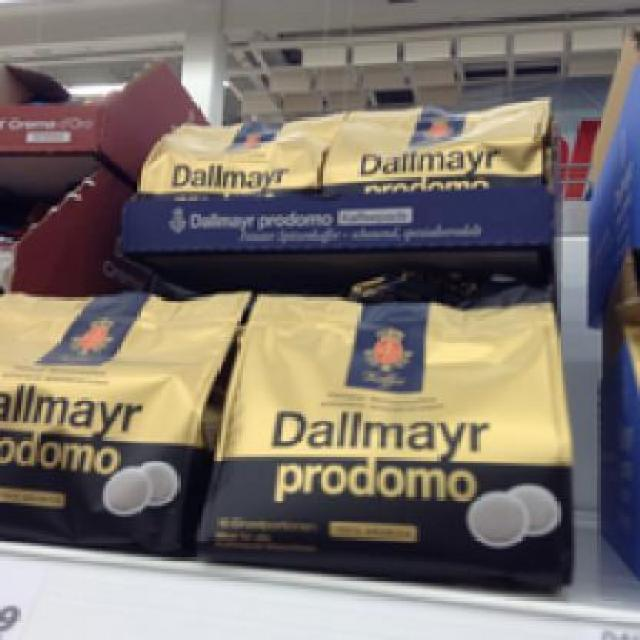Coffee: (188, 286, 572, 580), (0, 288, 246, 548), (316, 103, 550, 191), (134, 109, 332, 198)
